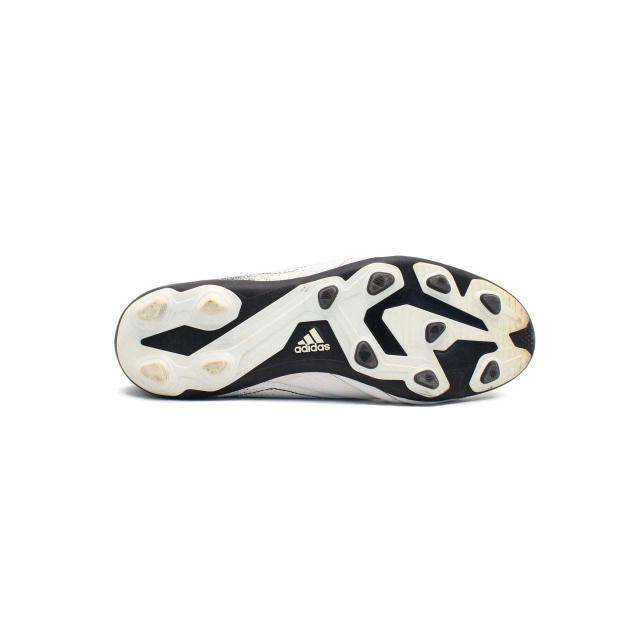outersole: (113, 260, 533, 412)
